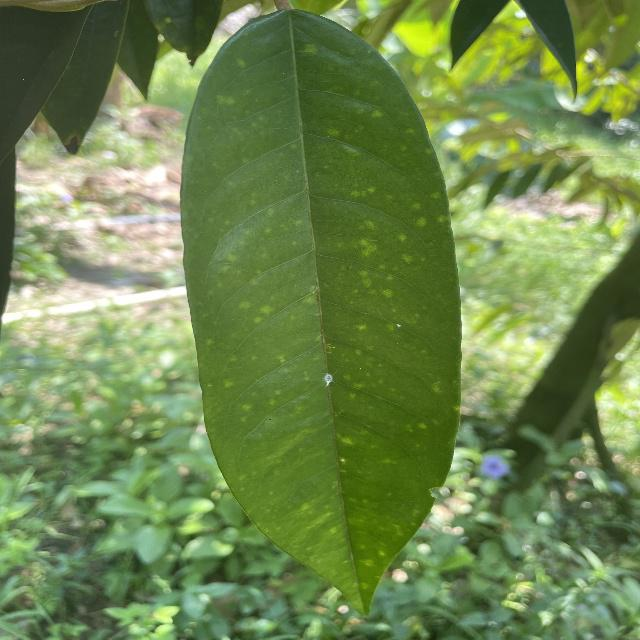Leaf Spot: (177, 7, 469, 625)
